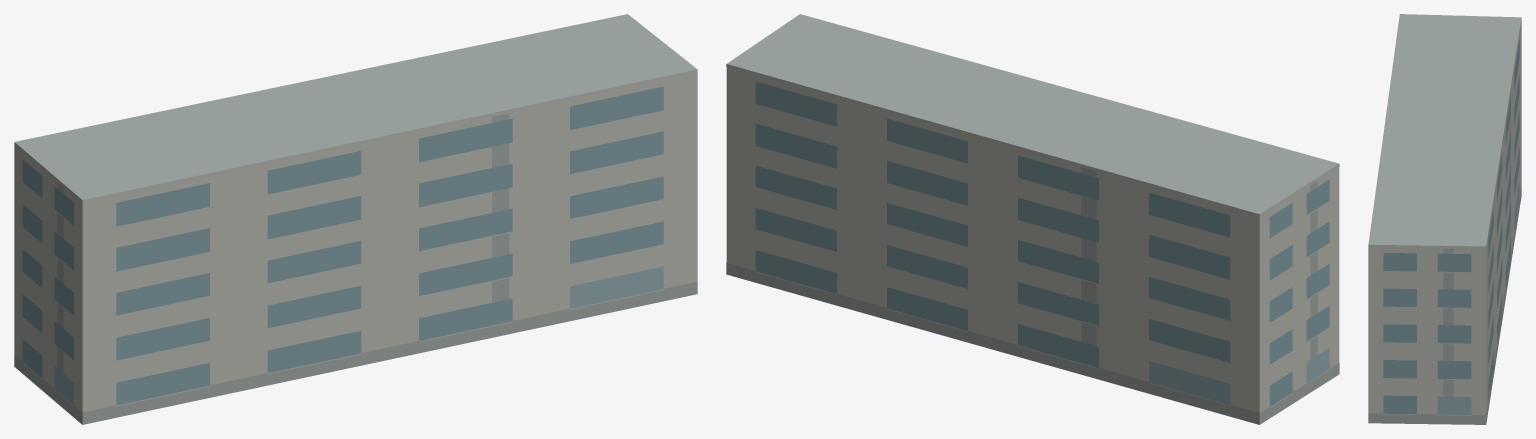
Rendered from residential-b9bea9ed-39e8-48f7-a26a-4fa1e05df5ec.glb.
The picture shows the model from 3 angles, left to right: view 1: azimuth 30°, elevation 25°; view 2: azimuth 150°, elevation 25°; view 3: azimuth 270°, elevation 25°; orthographic projection. The views are drawn at different scales.
Visible parts, largest first — view 1: residential-b9bea9ed-39e8-48f7-a26a-4fa1e05df5ec.tmp; view 2: residential-b9bea9ed-39e8-48f7-a26a-4fa1e05df5ec.tmp; view 3: residential-b9bea9ed-39e8-48f7-a26a-4fa1e05df5ec.tmp.
Part boxes in pixels (x1=…): residential-b9bea9ed-39e8-48f7-a26a-4fa1e05df5ec.tmp: x1=14, y1=14, x2=697, y2=424; residential-b9bea9ed-39e8-48f7-a26a-4fa1e05df5ec.tmp: x1=726, y1=14, x2=1339, y2=424; residential-b9bea9ed-39e8-48f7-a26a-4fa1e05df5ec.tmp: x1=1368, y1=14, x2=1521, y2=424.
Bounding box in the file's own units: 42.59 × 15.25 × 11.87.
